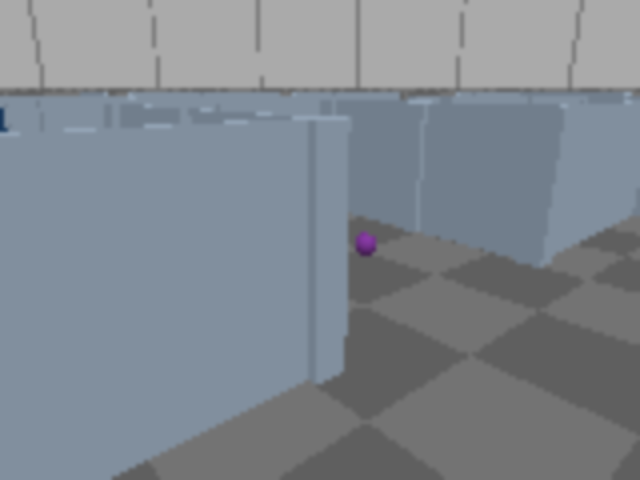person: (0, 0, 18, 204)
puck: (349, 229, 381, 260)
